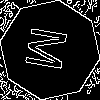M: (25, 25, 77, 74)
